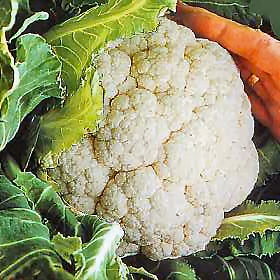cauliflower: (38, 17, 259, 260)
